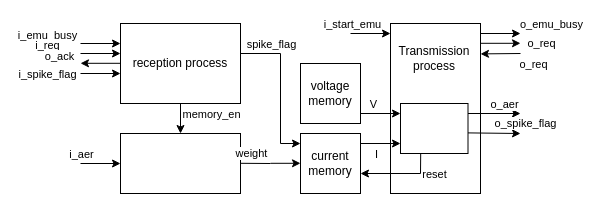
Some shapes in this 599 by 211 pixel diagram are drawn without their labels. Here are the shapes that lost their labels. From the top down, the centre of each, then its label:
At point (434, 128): "hardware neuron".
At point (180, 163): "synaptic memory".
